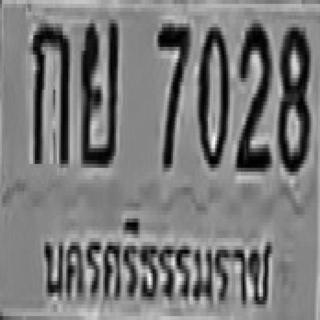A01: (31, 20, 68, 164)
A34: (79, 16, 118, 164)
N00: (197, 23, 228, 164)
N02: (234, 20, 270, 168)
N07: (156, 20, 188, 164)
N08: (276, 23, 309, 168)
P32: (38, 209, 276, 312)
